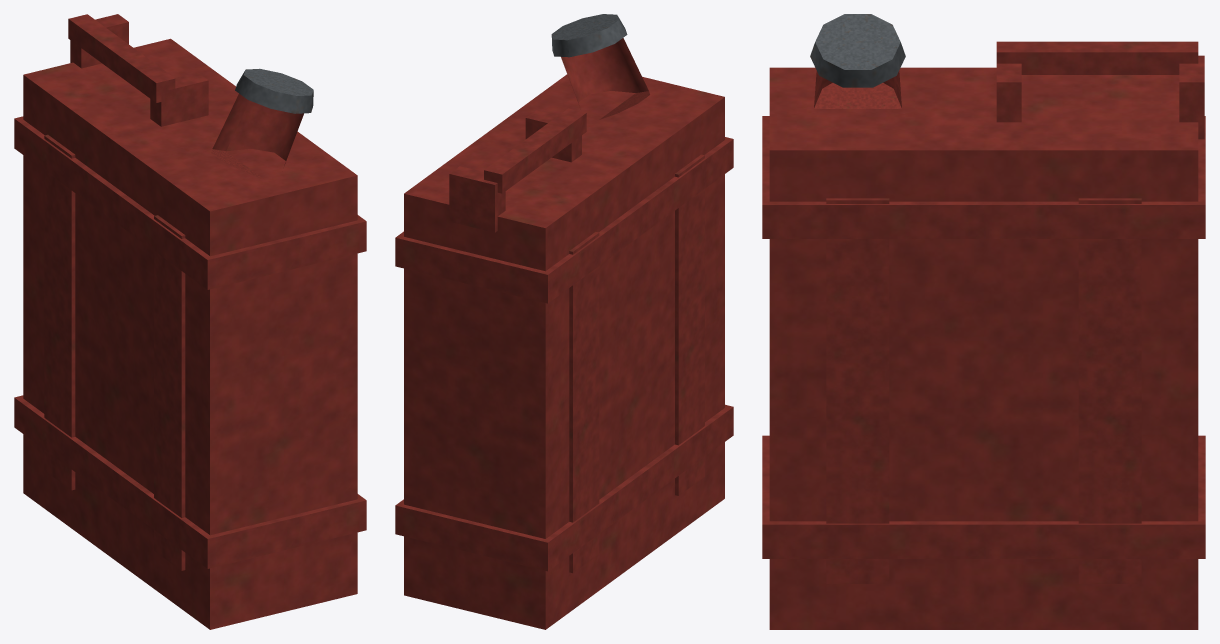
Rendered from prop.jerrycan.glb.
3 renders of one model, left to right at view 1: azimuth 30°, elevation 25°; view 2: azimuth 150°, elevation 25°; view 3: azimuth 270°, elevation 25°, orthographic. The views are drawn at different scales.
Parts seen in each view (by area): view 1: prop.jerrycan; view 2: prop.jerrycan; view 3: prop.jerrycan.
Boxes of the visible parts, x1,y1,x2,y2 form: prop.jerrycan: (14,14,366,629); prop.jerrycan: (395,14,733,629); prop.jerrycan: (762,14,1205,629).
Bounding box in the file's own units: 0.167 × 0.5052 × 0.352.
Materials: 2 (2 with a texture image).
